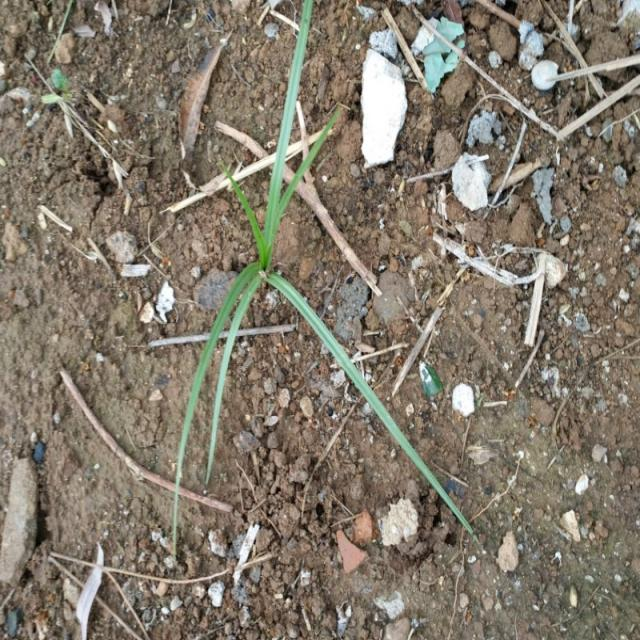sedge: (146, 9, 402, 534)
